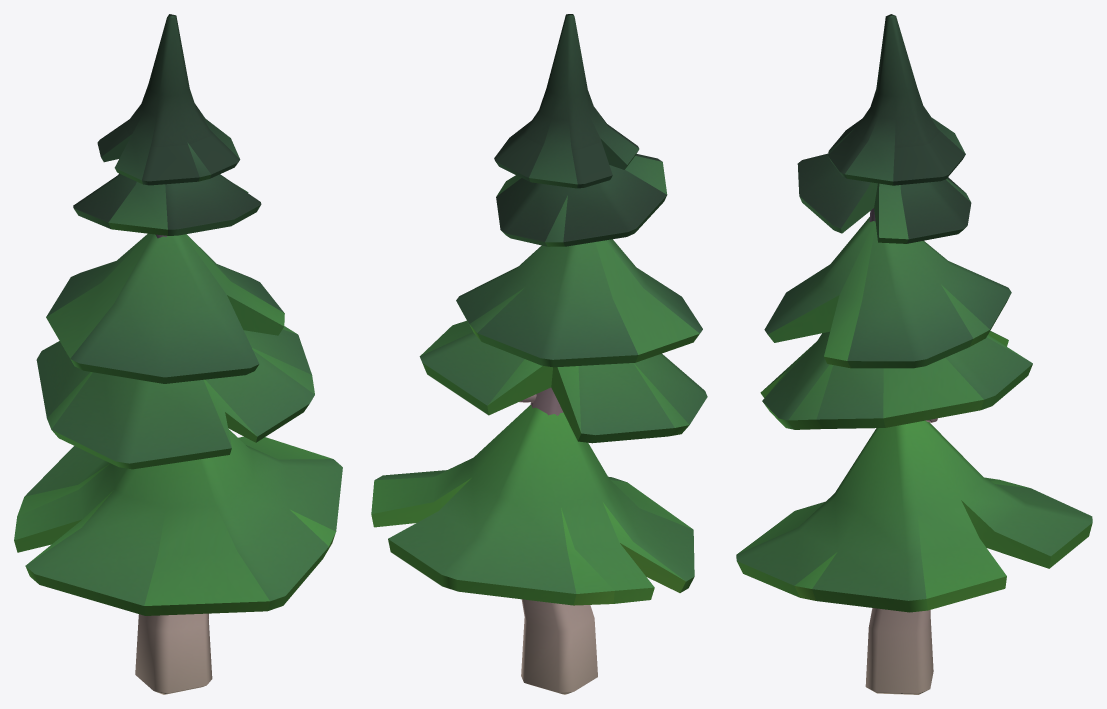
File: tree4.glb
The picture shows the model from 3 angles, left to right: view 1: azimuth 30°, elevation 25°; view 2: azimuth 150°, elevation 25°; view 3: azimuth 270°, elevation 25°; orthographic projection.
Parts seen in each view (by area): view 1: Pine Tree - Proto Series - Free; view 2: Pine Tree - Proto Series - Free; view 3: Pine Tree - Proto Series - Free.
Boxes of the visible parts, x1,y1,x2,y2 form: Pine Tree - Proto Series - Free: (14, 14, 342, 694); Pine Tree - Proto Series - Free: (371, 14, 707, 694); Pine Tree - Proto Series - Free: (736, 14, 1092, 694).
Bounding box in the file's own units: 528 × 1086 × 526.
1 material, 1 textured.
